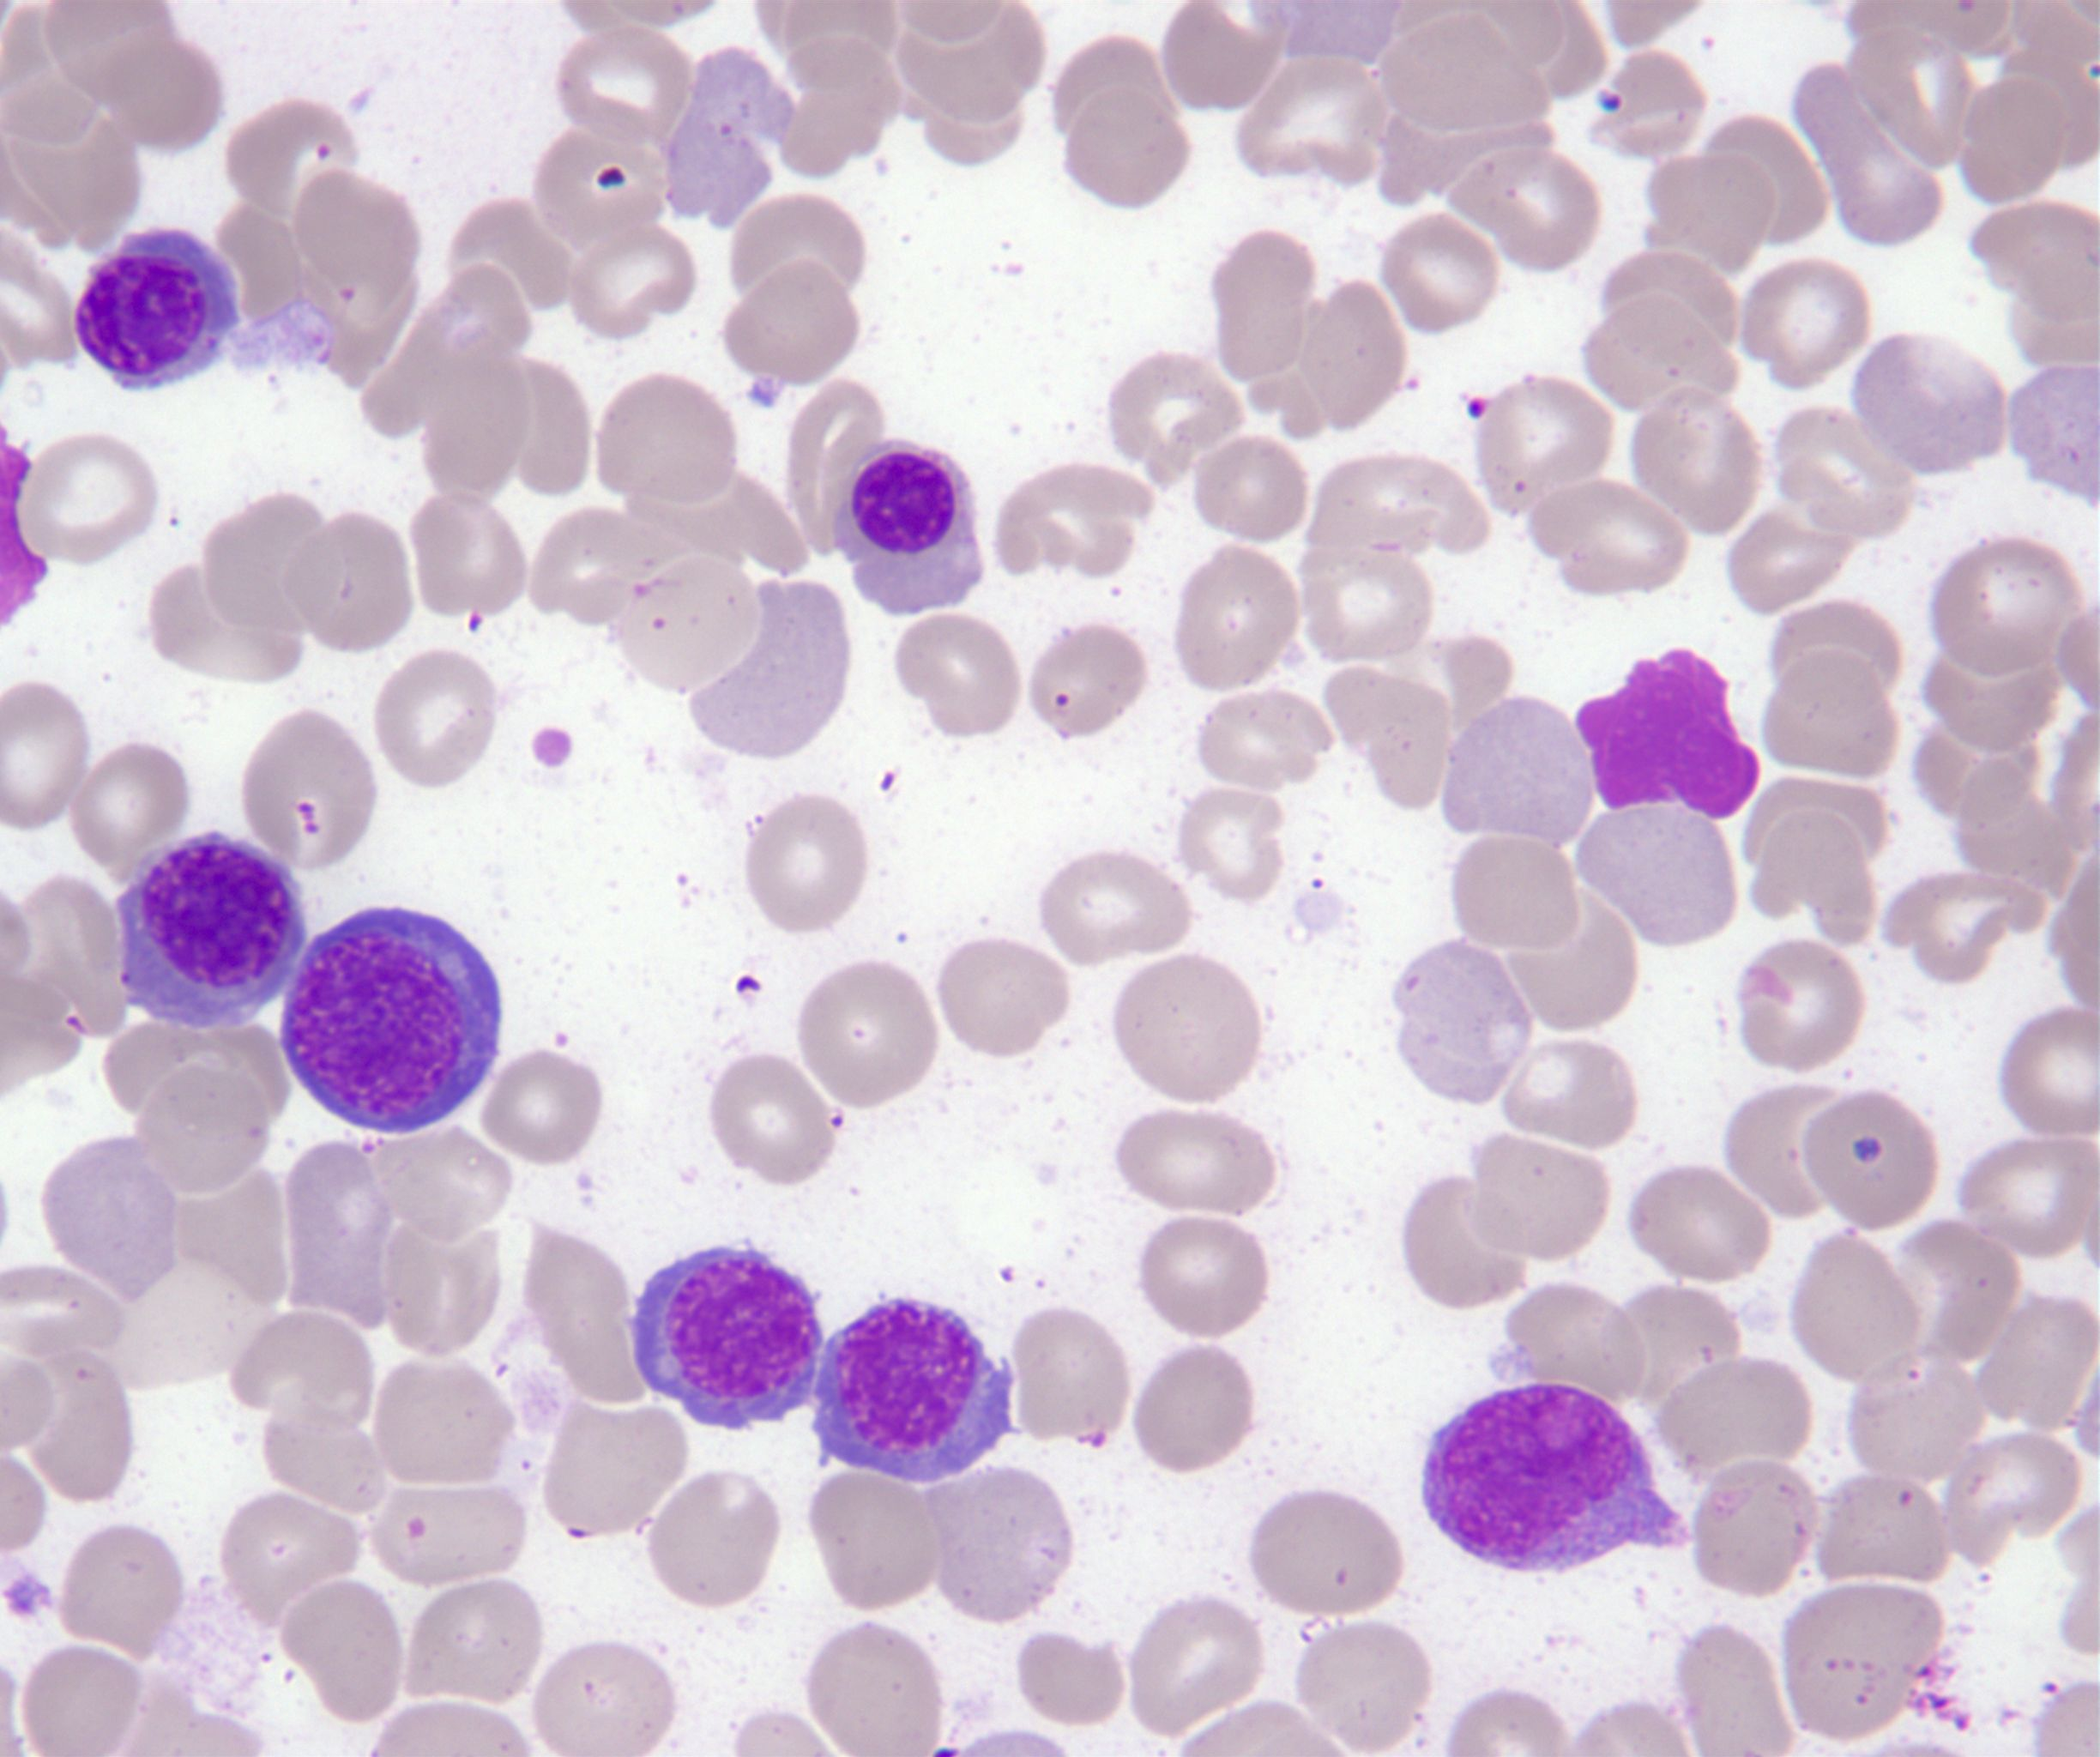1: (1423, 1385, 1688, 1574)
22: (281, 906, 499, 1134)
23: (113, 829, 303, 1028), (816, 1300, 1012, 1483), (633, 1246, 823, 1431), (75, 229, 239, 389)
24: (834, 445, 978, 612)
x: (1578, 651, 1755, 820)
